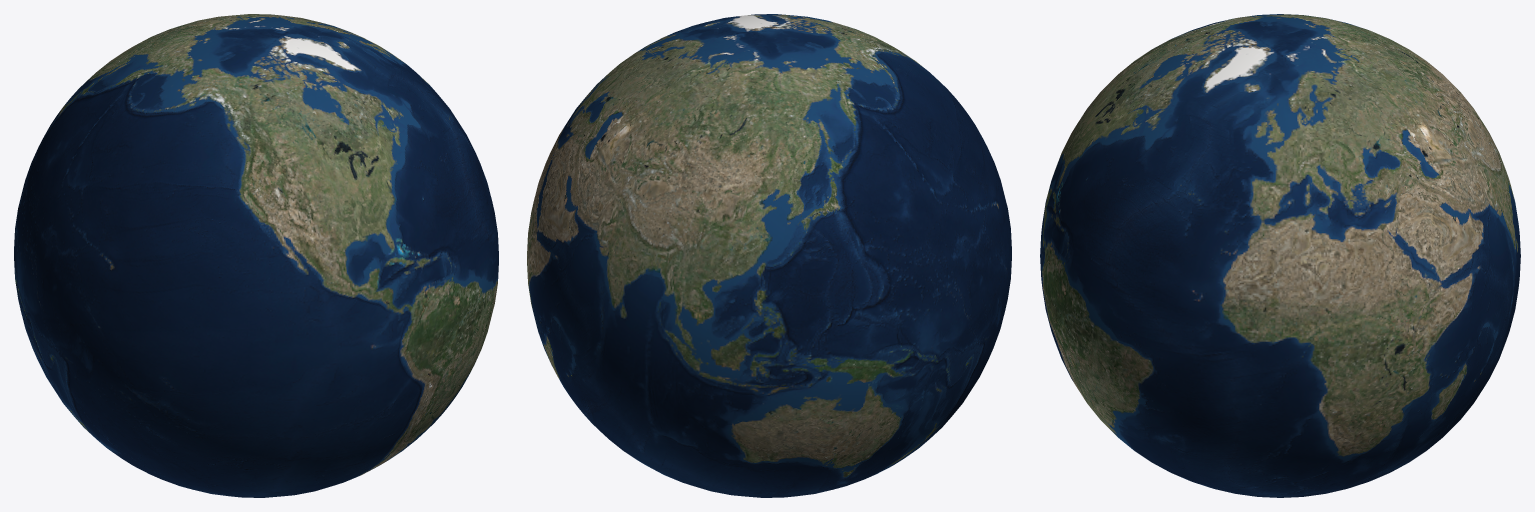
File: earth4.glb
The picture shows the model from 3 angles, left to right: view 1: azimuth 30°, elevation 25°; view 2: azimuth 150°, elevation 25°; view 3: azimuth 270°, elevation 25°; orthographic projection.
Visible parts, largest first — view 1: Cube.001; view 2: Cube.001; view 3: Cube.001.
Part boxes in pixels (x1,y1,x2,y2): Cube.001: [14, 14, 498, 497]; Cube.001: [527, 14, 1011, 497]; Cube.001: [1040, 14, 1520, 497].
Size of the model in its own units: 1.7 by 1.7 by 1.7.
1 material, 1 textured.
